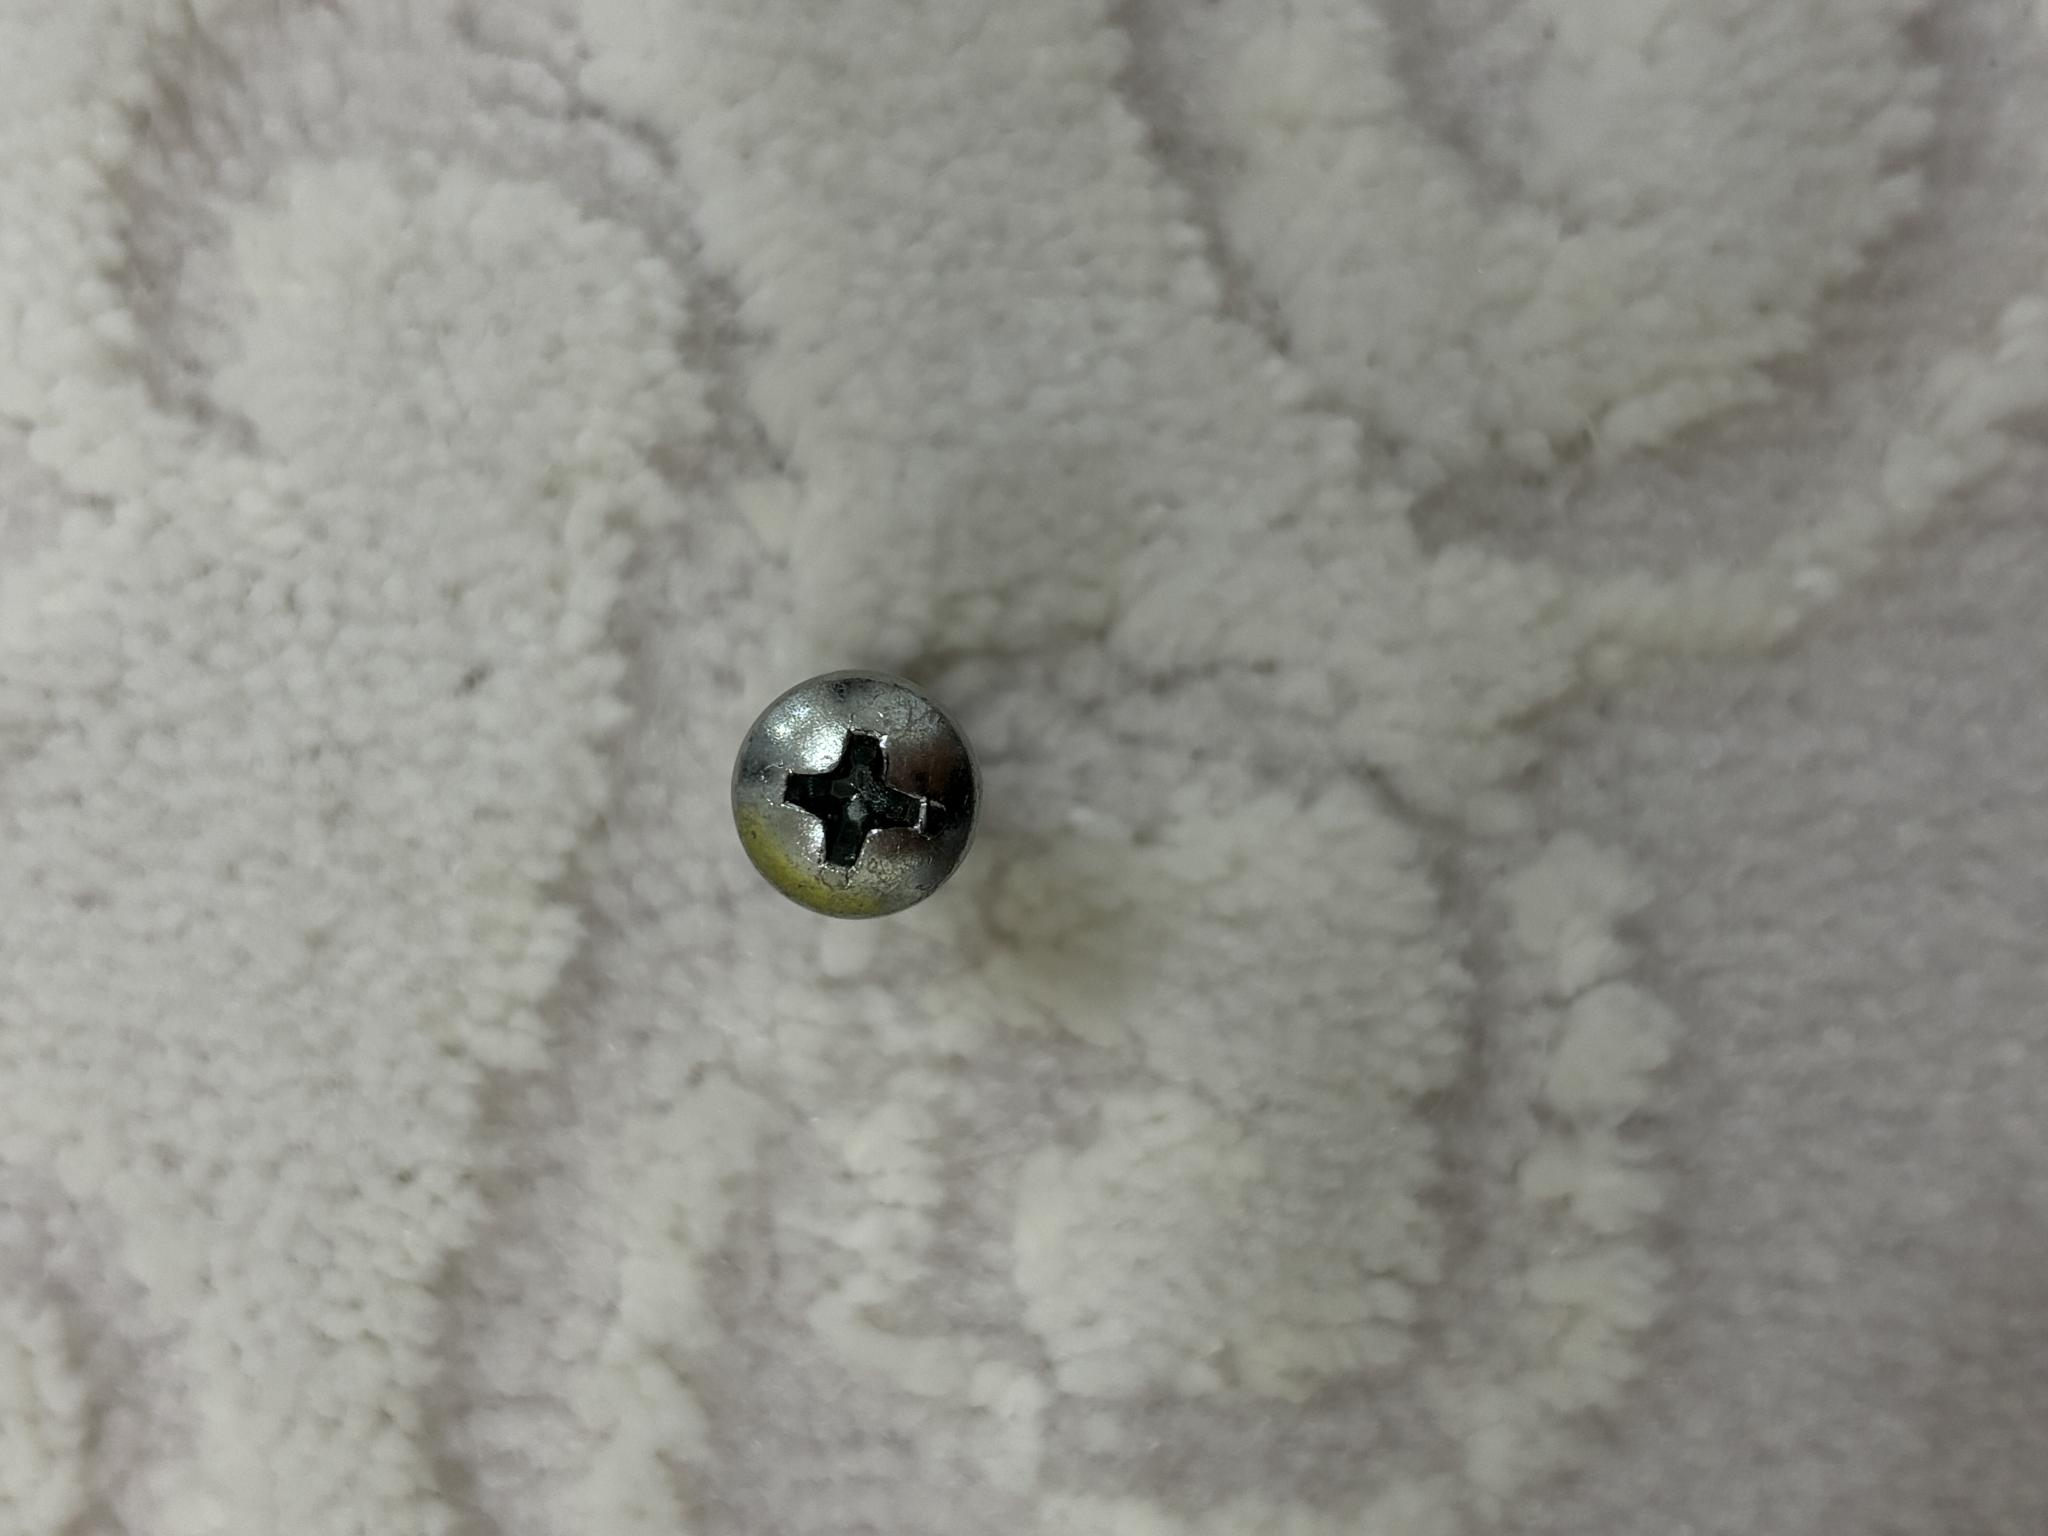PH: (618, 733, 864, 979)
